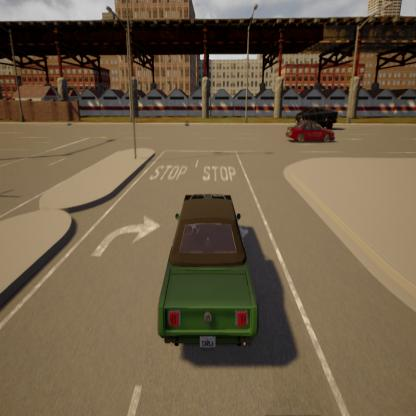Cars: (150, 174, 262, 366), (283, 115, 334, 144), (293, 95, 336, 128)
